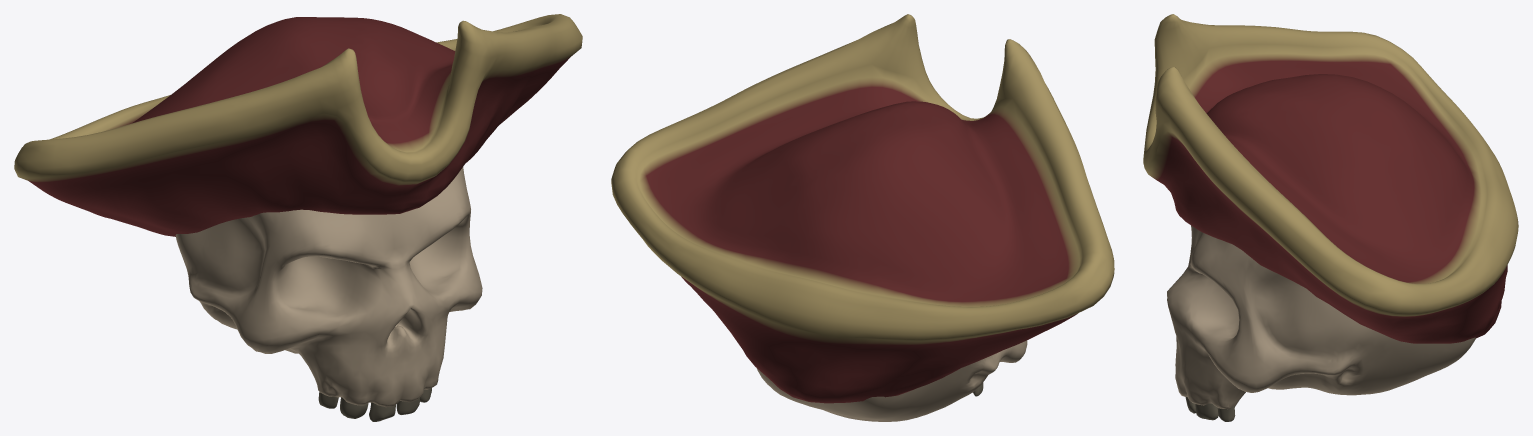
File: Skull Low.fbx
3 renders of one model, left to right at view 1: azimuth 30°, elevation 25°; view 2: azimuth 150°, elevation 25°; view 3: azimuth 270°, elevation 25°, orthographic. The views are drawn at different scales.
Parts seen in each view (by area): view 1: Pirate Hat, Pirate Skull; view 2: Pirate Hat, Pirate Skull; view 3: Pirate Hat, Pirate Skull.
Part boxes in pixels (x1,y1,x2,y2): Pirate Hat: (14, 14, 582, 236); Pirate Skull: (175, 167, 482, 421); Pirate Hat: (611, 14, 1114, 403); Pirate Skull: (756, 340, 1027, 421); Pirate Hat: (1143, 14, 1518, 343); Pirate Skull: (1167, 225, 1475, 421).
Bounding box in the file's own units: 1 × 0.6737 × 0.6274.
